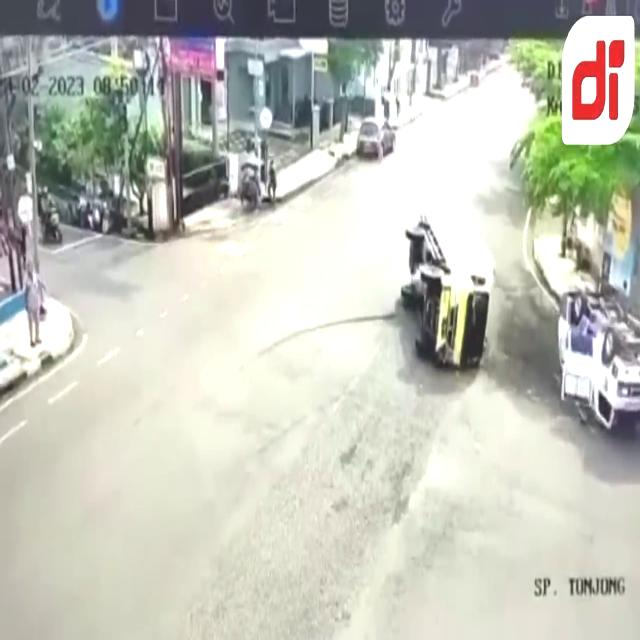accident: (398, 212, 640, 438)
